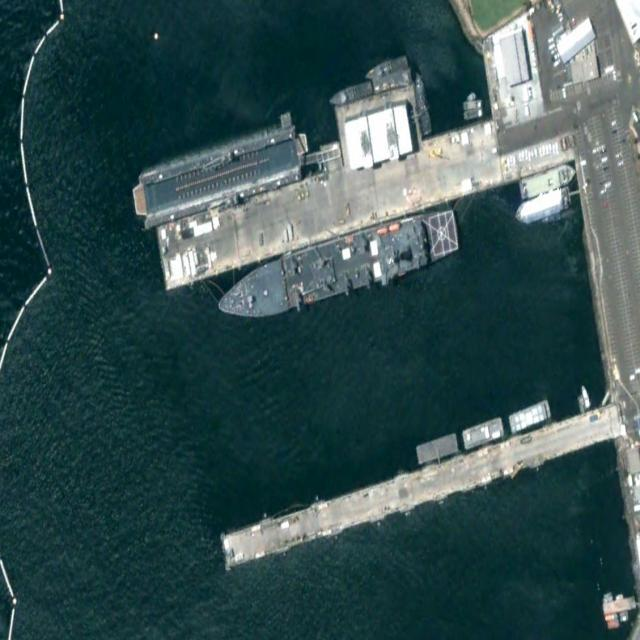Commander: (213, 201, 460, 332)
Other Ship: (518, 159, 577, 202), (514, 185, 572, 228), (580, 382, 591, 409)
Other Warship: (412, 75, 434, 135), (364, 52, 408, 82), (328, 79, 373, 108)
